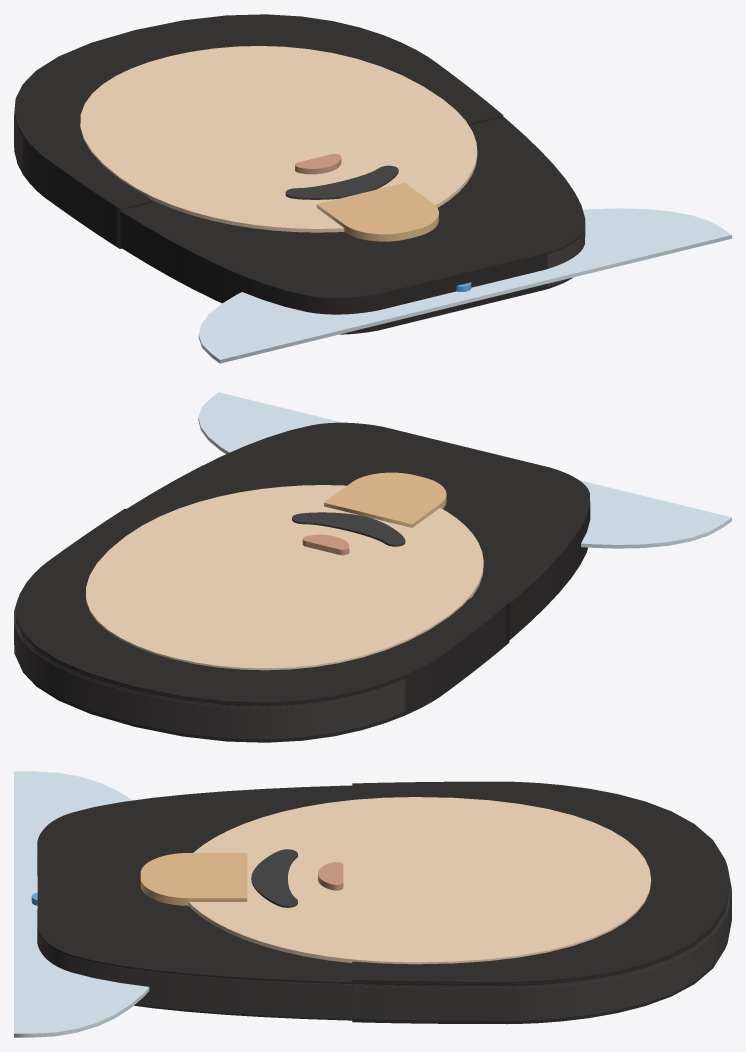
Rendered from emoji_u1f469_1f3fb_200d_1f4bc.glb.
3 renders of one model, top to bottom at view 1: azimuth 30°, elevation 25°; view 2: azimuth 150°, elevation 25°; view 3: azimuth 270°, elevation 25°, orthographic. The views are drawn at different scales.
Parts seen in each view (by area): view 1: emoji_u1f469_1f3fb_200d_1f4bc; view 2: emoji_u1f469_1f3fb_200d_1f4bc; view 3: emoji_u1f469_1f3fb_200d_1f4bc.
Boxes of the visible parts, bbox=[...] form: emoji_u1f469_1f3fb_200d_1f4bc: bbox=[14, 14, 731, 363]; emoji_u1f469_1f3fb_200d_1f4bc: bbox=[14, 392, 731, 742]; emoji_u1f469_1f3fb_200d_1f4bc: bbox=[14, 771, 731, 1037].
Bounding box in the file's own units: 0.0294 × 0.003 × 0.0339.
